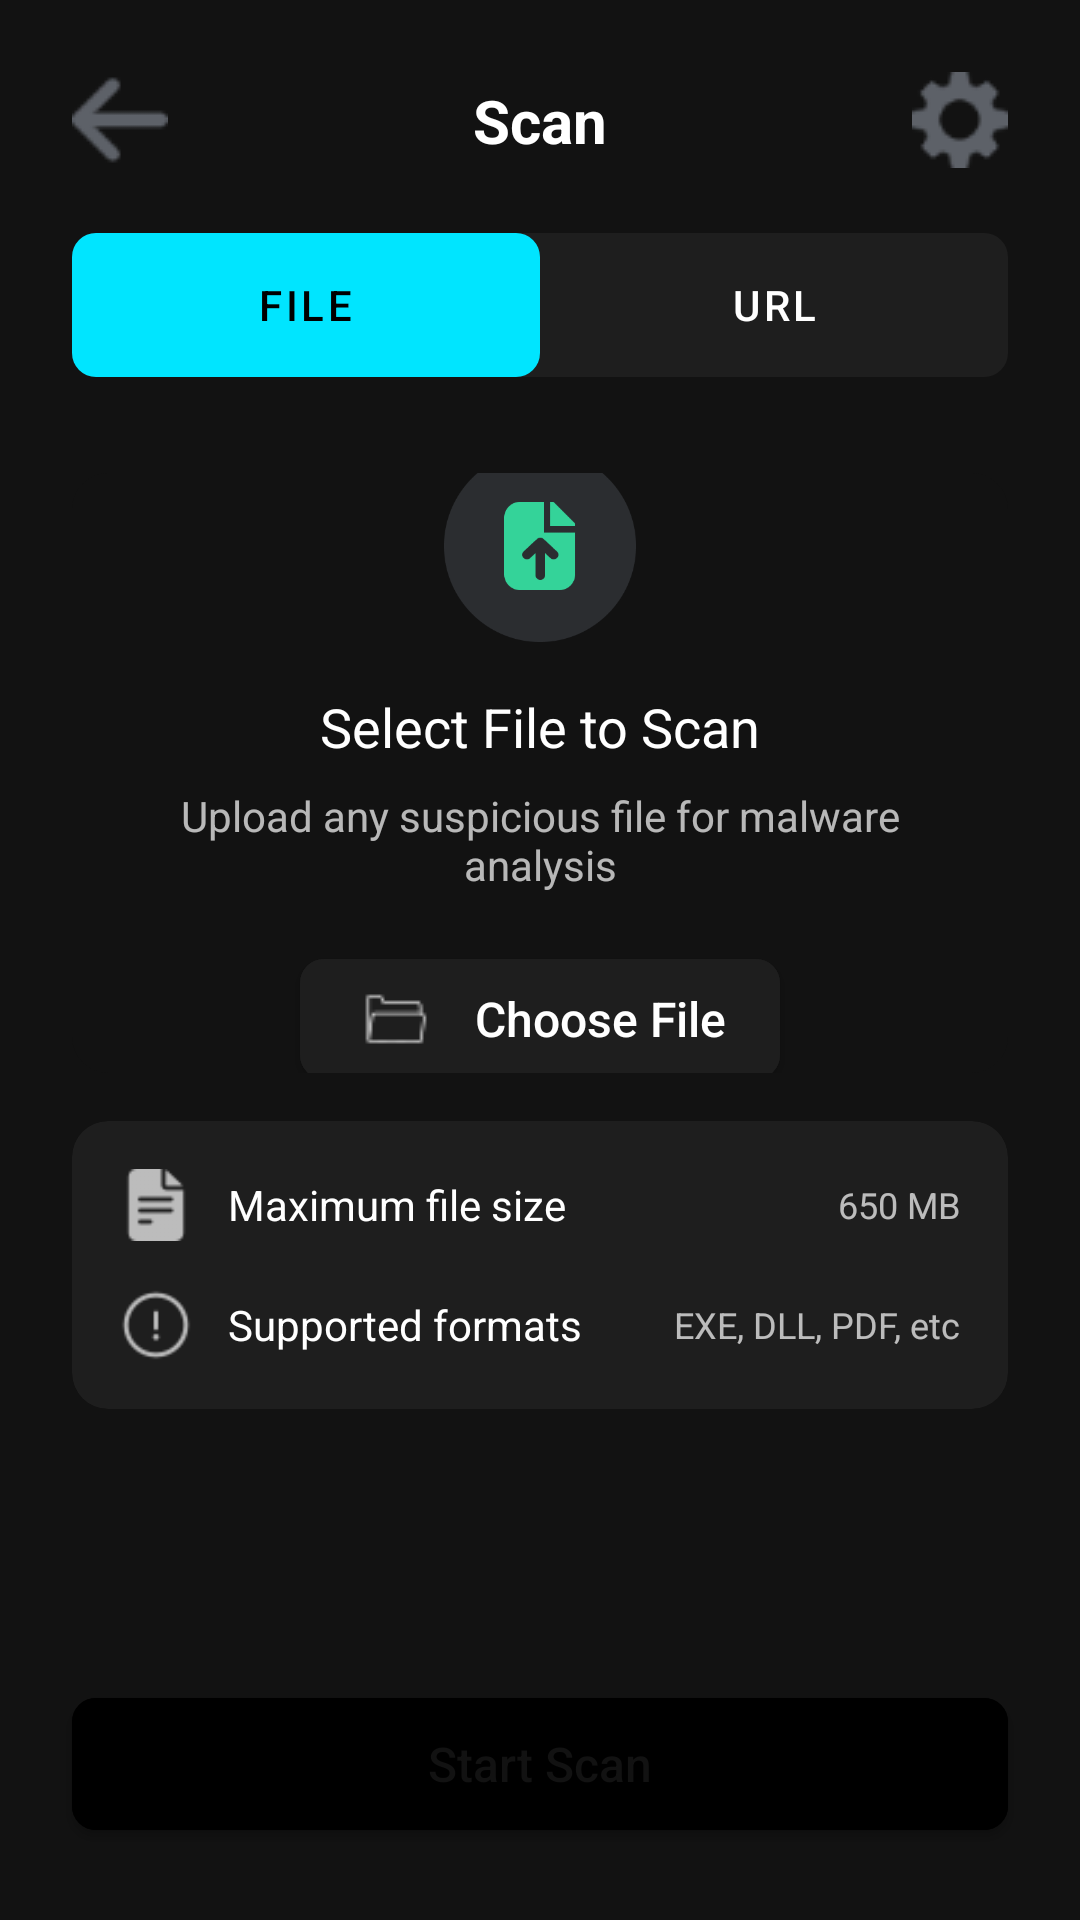

Locate icon controls on the screen. Image size 1080 x 1920, boxes as (x1, y1, x2, y2).
Back: (72, 78, 168, 162)
danger: (122, 1291, 190, 1359)
document: (127, 1169, 185, 1241)
Settings: (912, 72, 1008, 168)
